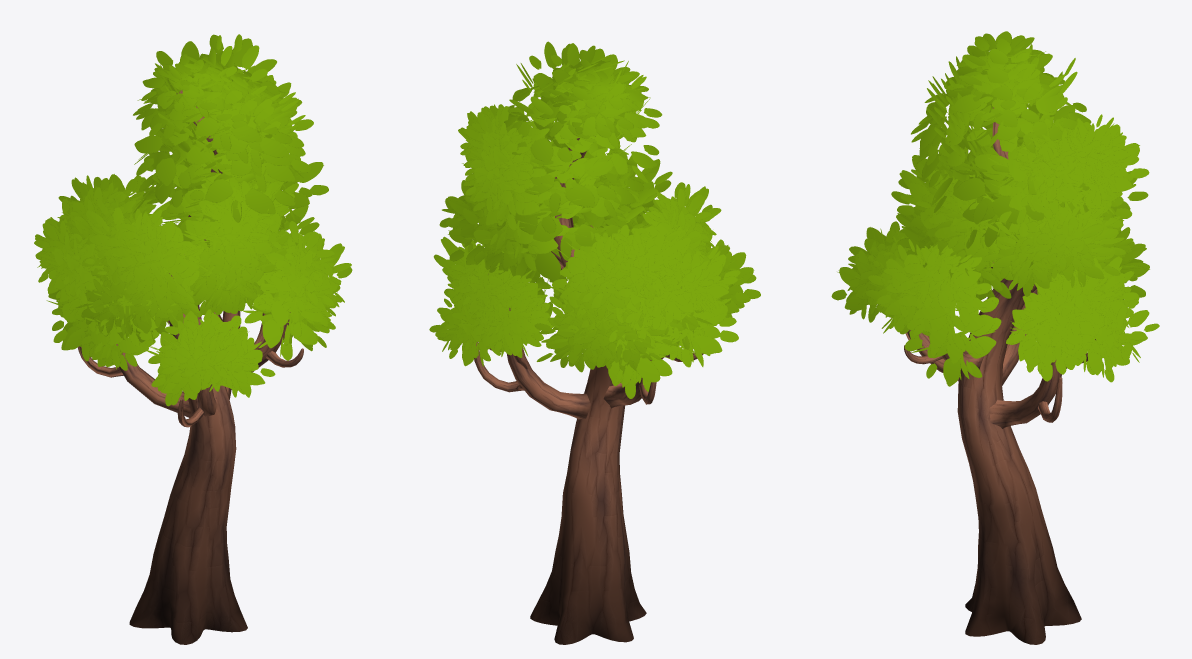
The model's file is CommonTree_2.glb.
The picture shows the model from 3 angles, left to right: view 1: azimuth 30°, elevation 25°; view 2: azimuth 150°, elevation 25°; view 3: azimuth 270°, elevation 25°; orthographic projection. The views are drawn at different scales.
Parts seen in each view (by area): view 1: CommonTree_2; view 2: CommonTree_2; view 3: CommonTree_2.
Part boxes in pixels (x1,y1,x2,y2): CommonTree_2: [34, 34, 352, 644]; CommonTree_2: [429, 41, 760, 644]; CommonTree_2: [831, 31, 1159, 644].
Size of the model in its own units: 4.46 by 7.64 by 4.28.
2 materials, 2 textured.
